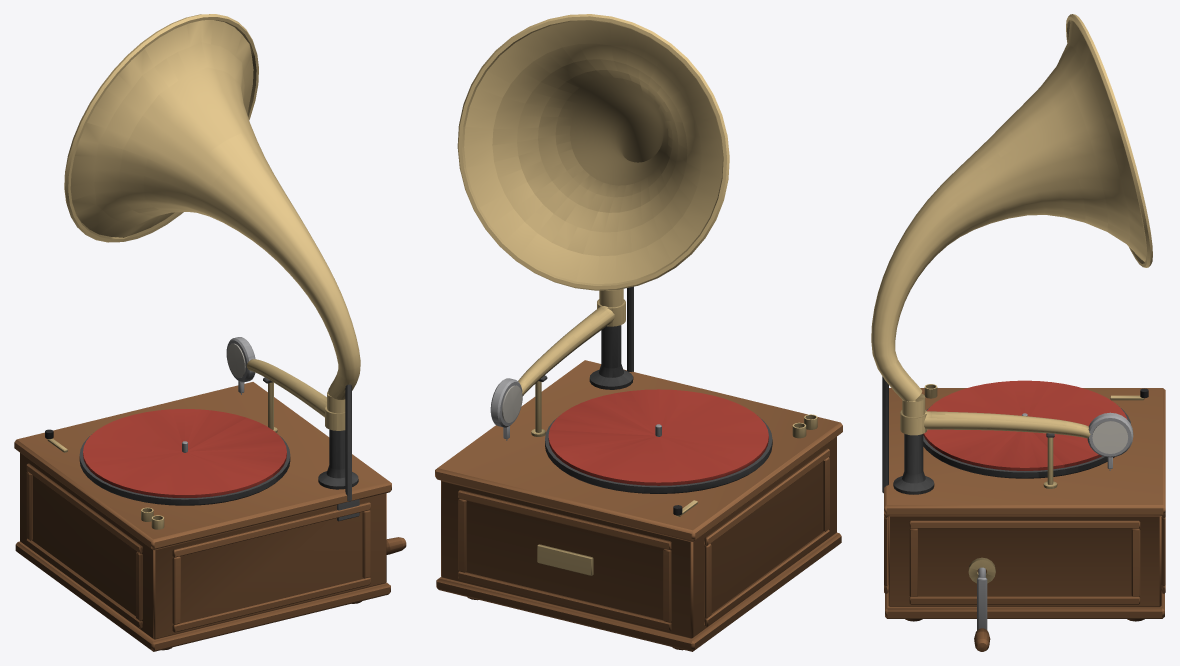
The model's file is gramophone.glb.
3 renders of one model, left to right at view 1: azimuth 30°, elevation 25°; view 2: azimuth 150°, elevation 25°; view 3: azimuth 270°, elevation 25°, orthographic. The views are drawn at different scales.
Parts seen in each view (by area): view 1: case, horn, platter, tonearm; view 2: case, horn, platter, tonearm; view 3: case, horn, platter, tonearm, crank.
Boxes of the visible parts, box(x1,y1,x2,y2) form: case: box(14, 377, 391, 651); horn: box(64, 14, 360, 413); platter: box(79, 409, 290, 505); tonearm: box(226, 337, 345, 430); case: box(435, 286, 842, 651); horn: box(457, 14, 729, 307); platter: box(545, 389, 772, 493); tonearm: box(490, 299, 625, 440); case: box(882, 376, 1165, 621); horn: box(871, 14, 1152, 417); platter: box(923, 380, 1131, 478); tonearm: box(900, 410, 1133, 470); crank: box(974, 567, 990, 651).
Size of the model in its own units: 0.412 by 0.7065 by 0.345.
